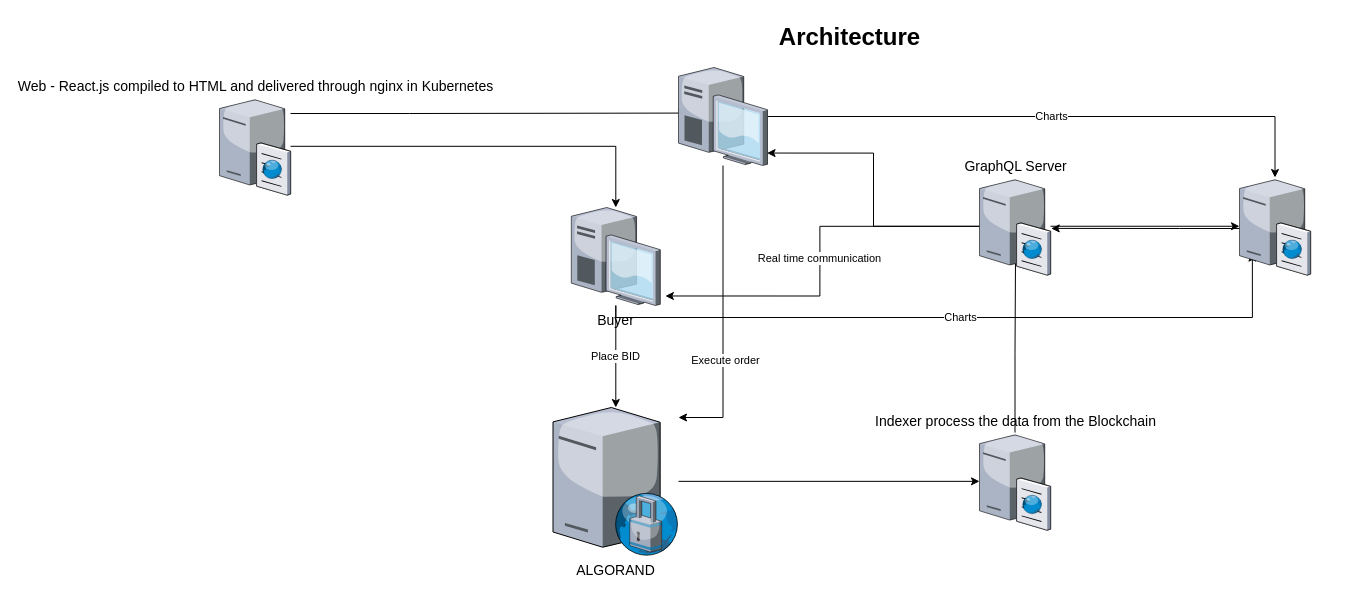
The diagram is 1362 pixels wide and 596 high, and some of its shapes have lost their labels. Each missing label, with the box of its shape:
Seller: (678, 67, 767, 165)
TV Charting processor: (1239, 177, 1310, 274)
